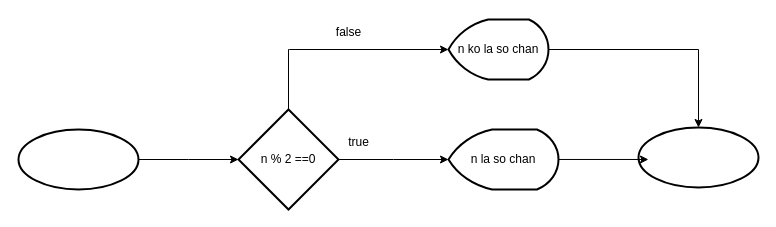
This 776x227 diagram has some shape labels left out. Each missing label, with the centre of its shape:
end: the point at 698,157
Nhập n: the point at 78,159
